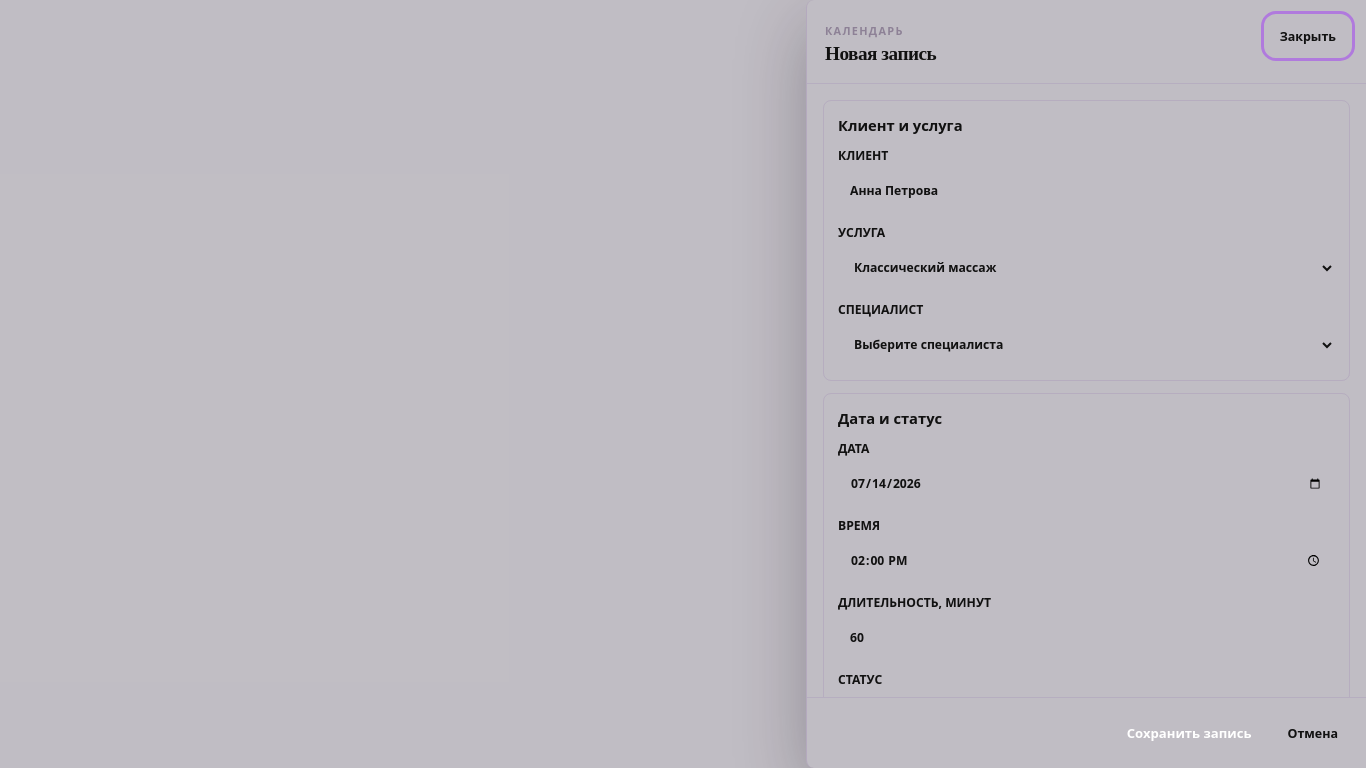
CalendarAppointmentDialog › requires a specialist when the interval came from the all-specialists view
Expected: the dropdown labelled "Специалист" shows "Выберите специалиста", [838,324,1335,366]
Step 1. Click the button "Сохранить запись" → (1189, 733), box [1113,712,1266,754]
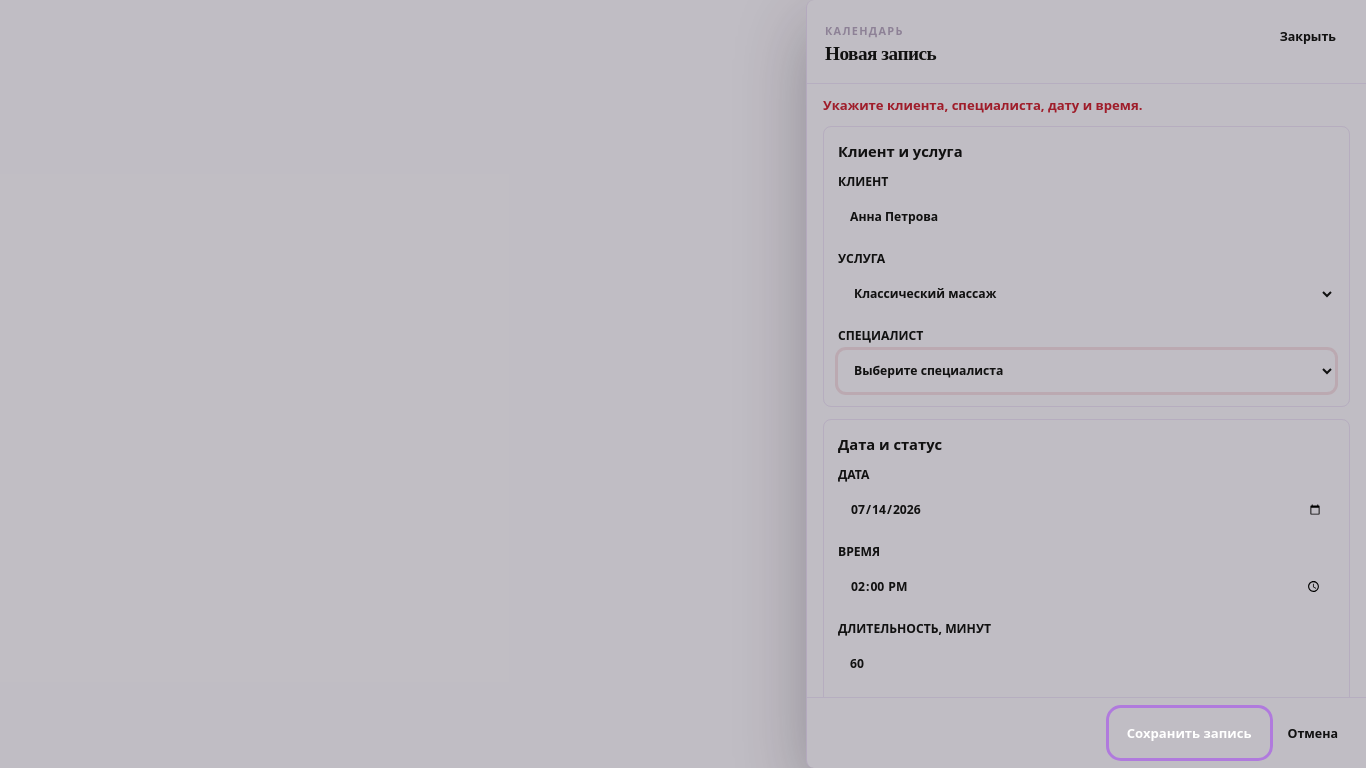
Now the message "Укажите клиента, специалиста, дату и время." is shown, box [823,96,1142,114]
